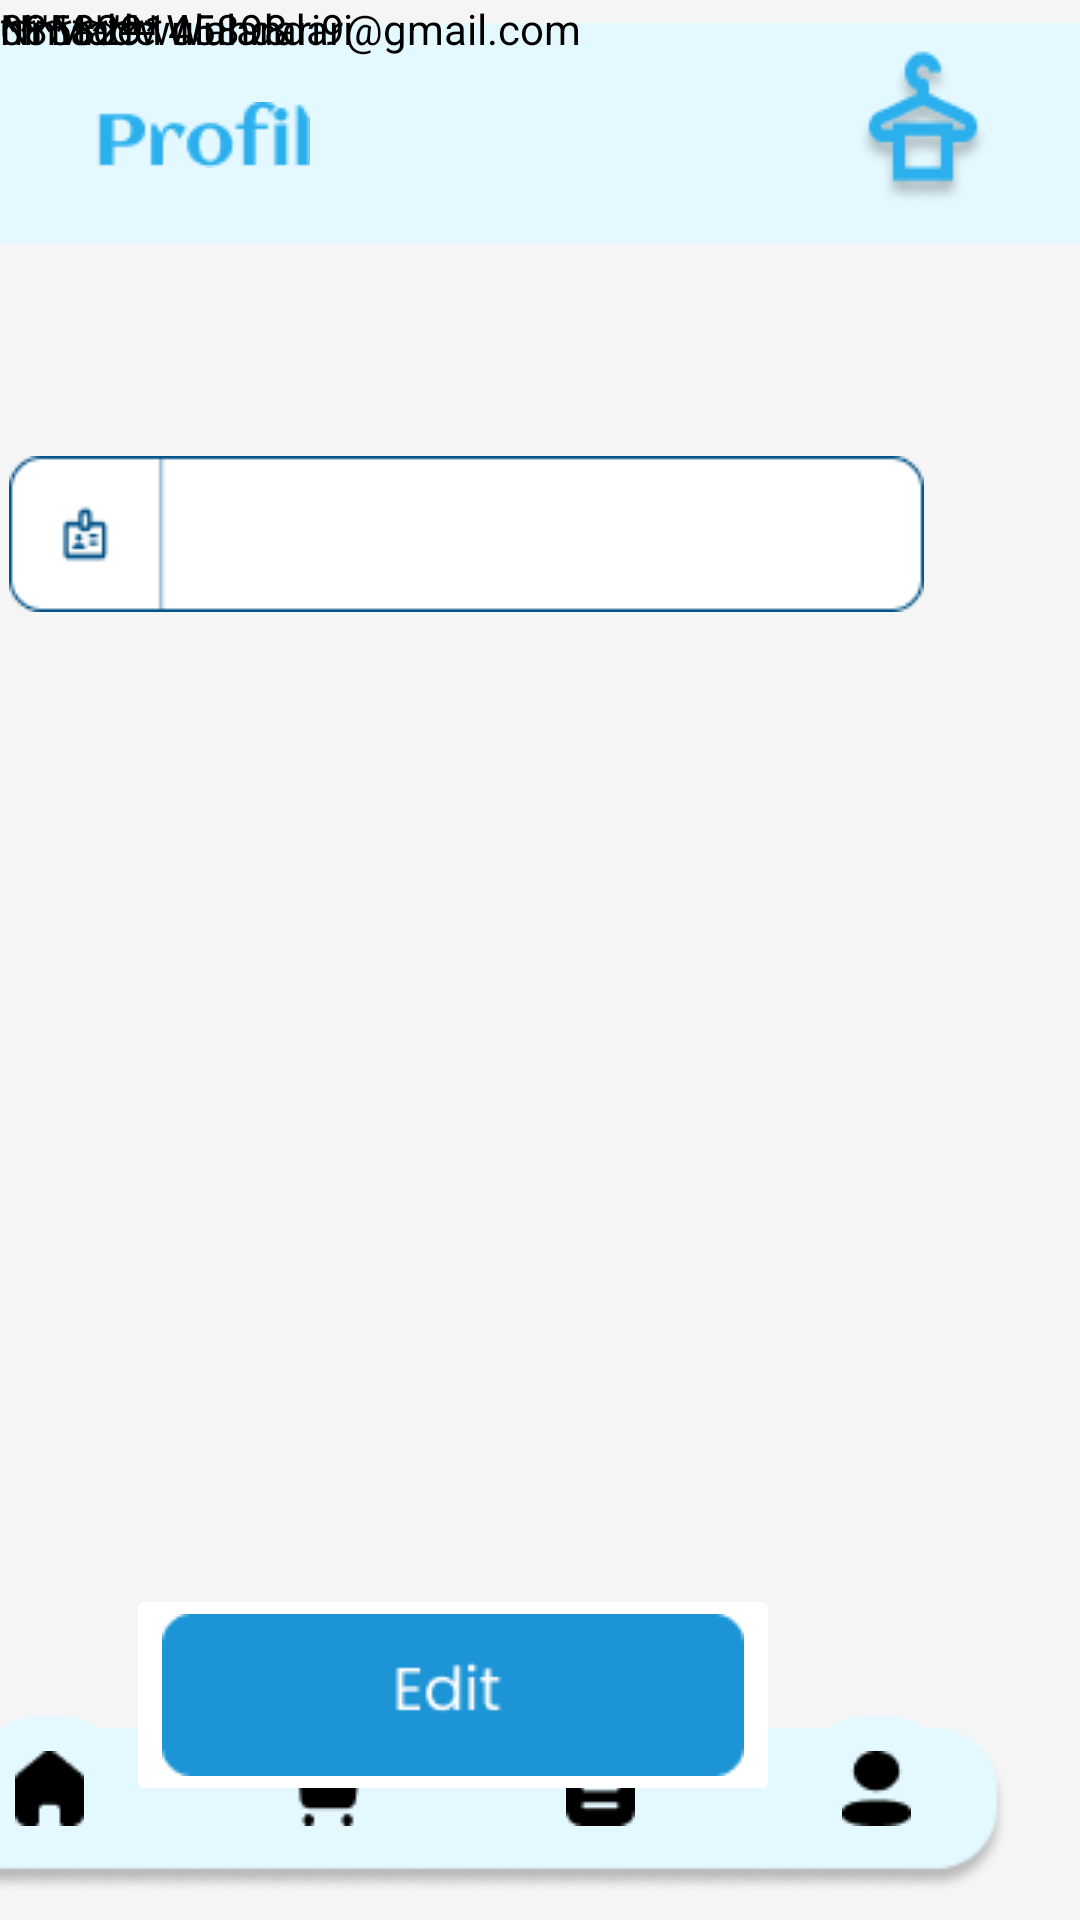

Where to tap for icons on this 1080px×1920px app screen, as [x,y]:
profile: [876,1788]
